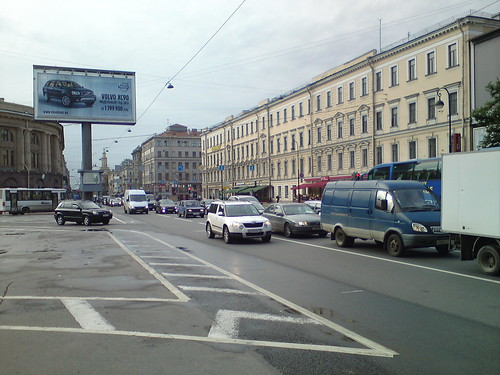building: (202, 17, 492, 198), (1, 116, 61, 196), (147, 130, 203, 191)
car: (204, 197, 272, 248), (262, 199, 334, 238), (48, 196, 115, 228), (174, 200, 207, 221)
sign: (33, 62, 132, 126)
street: (1, 221, 495, 370)
van: (318, 174, 450, 258)
